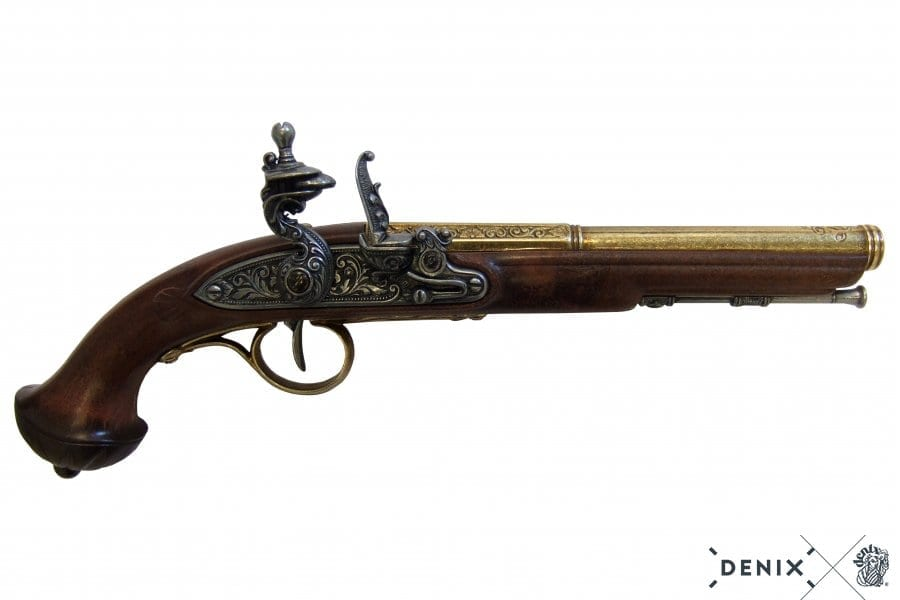Arma Real: (12, 114, 883, 481)
